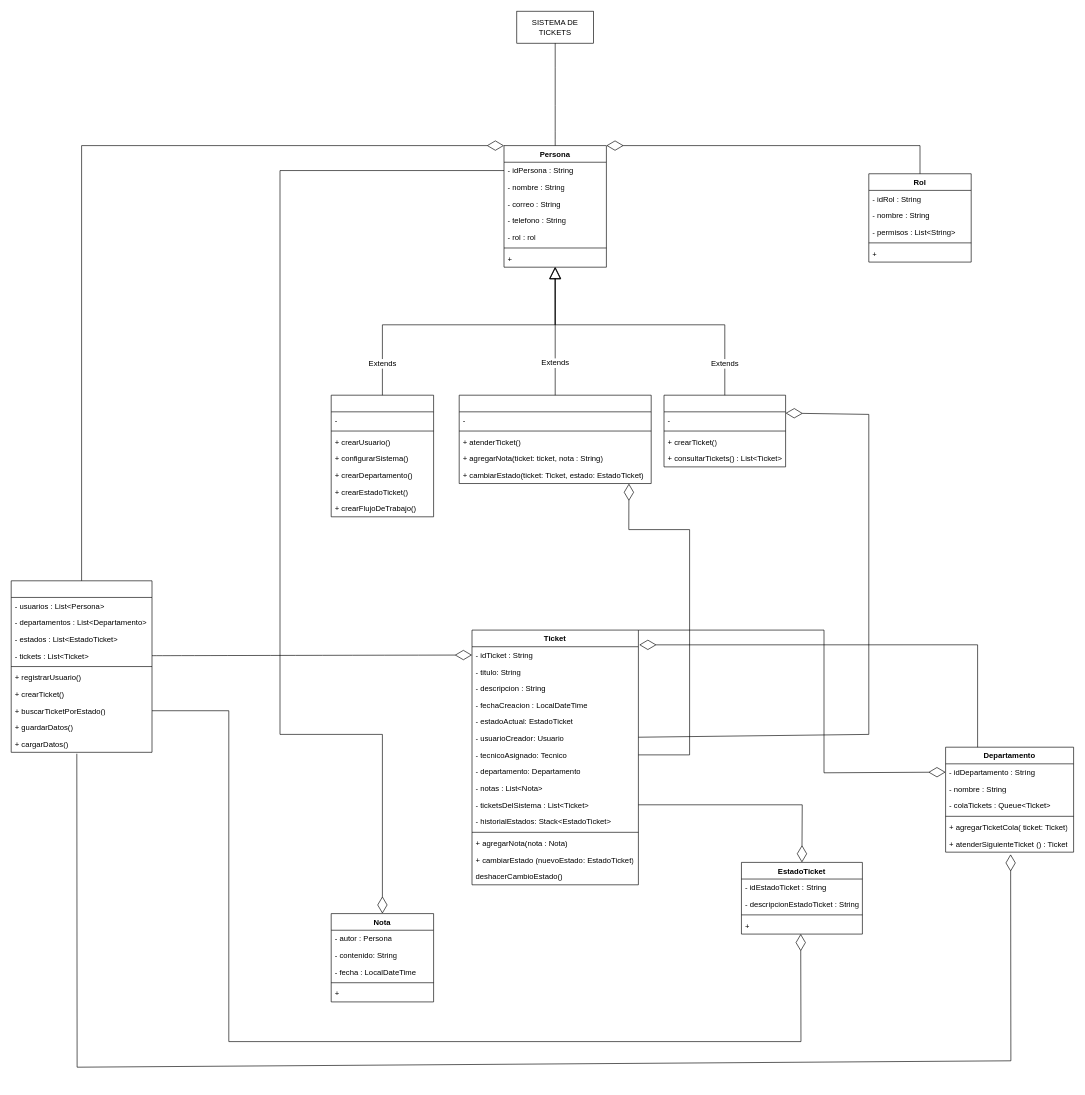
Some shapes in this 1085 by 1095 pixel diagram are drawn without their labels. The box of each missing label's shape, as (x1, y1, x2, y2) in pixels:
Administrador: (331, 395, 434, 517)
SistemaTickets: (11, 580, 152, 752)
Tecnico: (459, 395, 651, 484)
Usuario: (663, 395, 786, 467)
